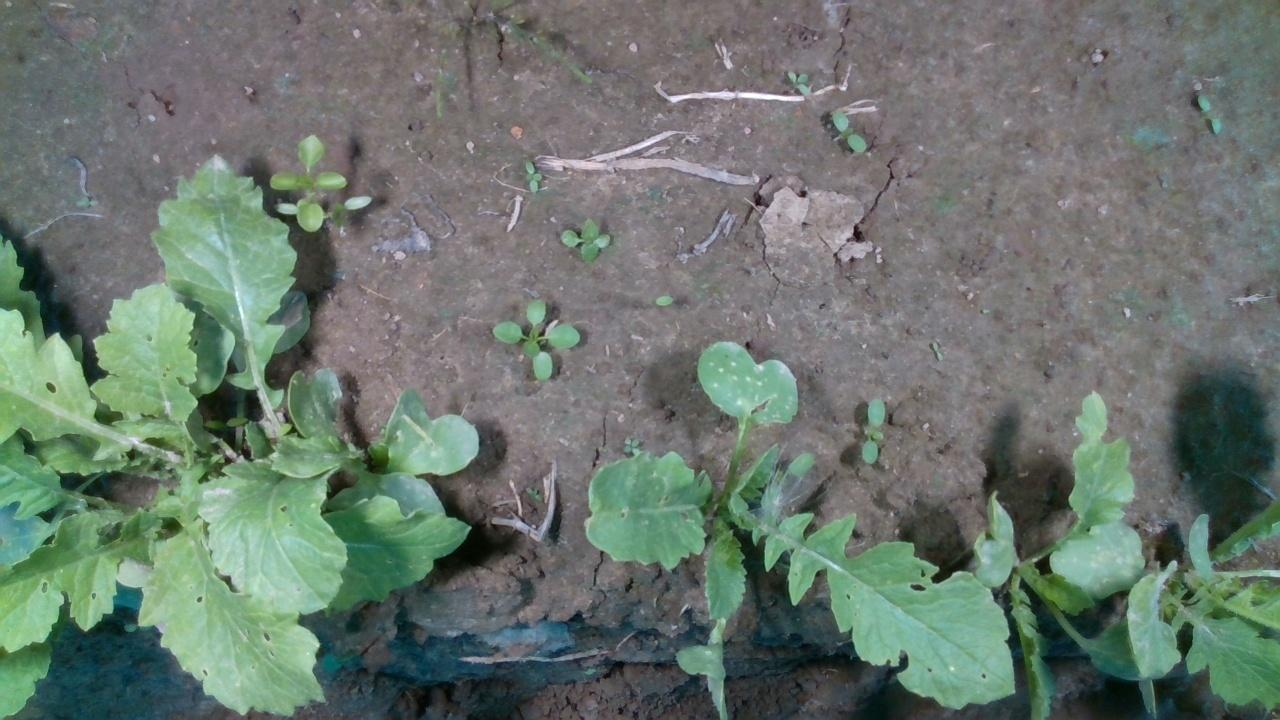weed: (558, 215, 611, 264), (828, 108, 868, 154), (860, 395, 885, 464), (1194, 89, 1222, 137), (784, 67, 810, 97), (522, 159, 542, 194), (930, 339, 944, 363)
